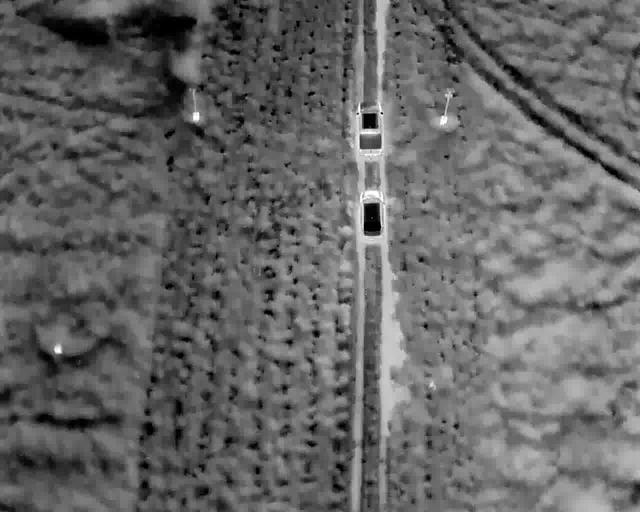car: (355, 100, 384, 156), (360, 189, 386, 238)
